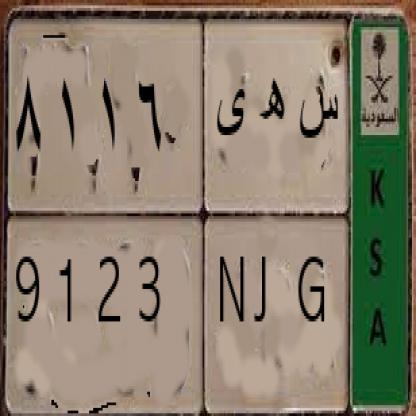english: (3, 216, 350, 407)
